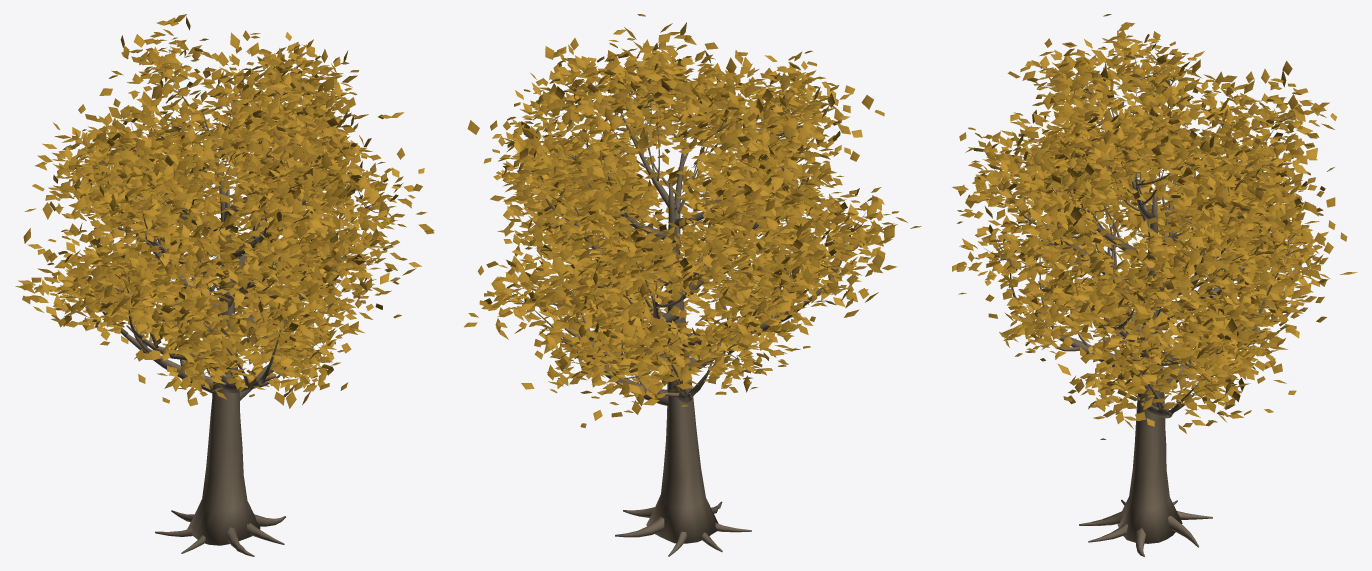
Rendered from broadleaf_autumn_static.glb.
The picture shows the model from 3 angles, left to right: view 1: azimuth 30°, elevation 25°; view 2: azimuth 150°, elevation 25°; view 3: azimuth 270°, elevation 25°; orthographic projection.
Visible parts, largest first — view 1: broadleaf_autumn_leaves.001, broadleaf_autumn_bark.001; view 2: broadleaf_autumn_leaves.001, broadleaf_autumn_bark.001; view 3: broadleaf_autumn_leaves.001, broadleaf_autumn_bark.001.
Boxes of the visible parts, x1,y1,x2,y2 form: broadleaf_autumn_leaves.001: [15, 14, 434, 408]; broadleaf_autumn_bark.001: [63, 44, 380, 556]; broadleaf_autumn_leaves.001: [464, 14, 921, 428]; broadleaf_autumn_bark.001: [502, 62, 866, 556]; broadleaf_autumn_leaves.001: [952, 14, 1357, 439]; broadleaf_autumn_bark.001: [984, 55, 1300, 556].
Size of the model in its own units: 13.62 by 15.47 by 12.34.
